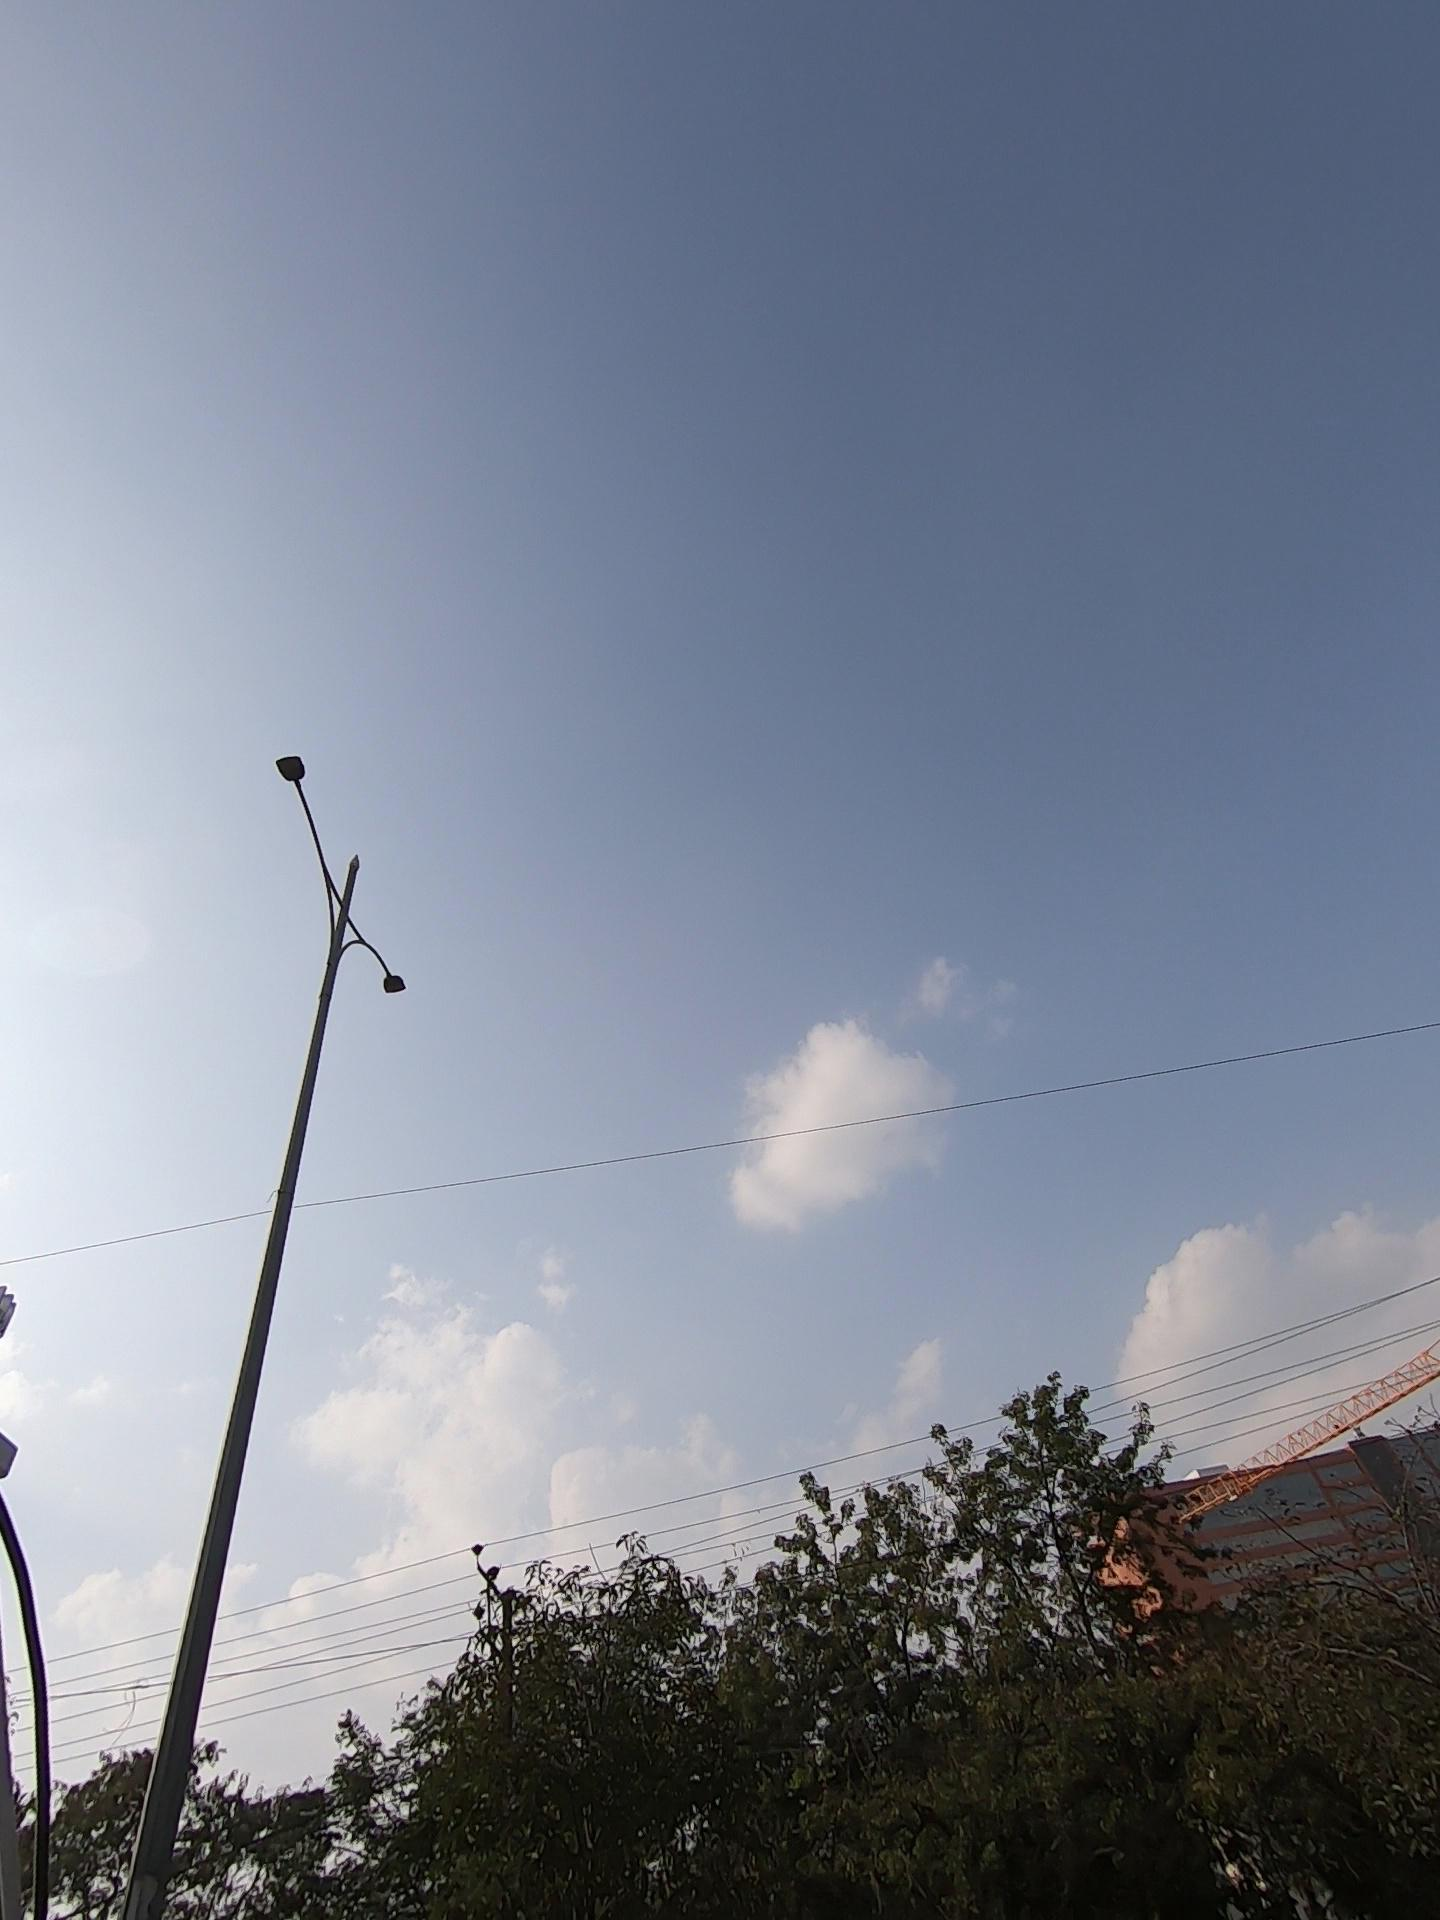off: (280, 691, 507, 1037)
